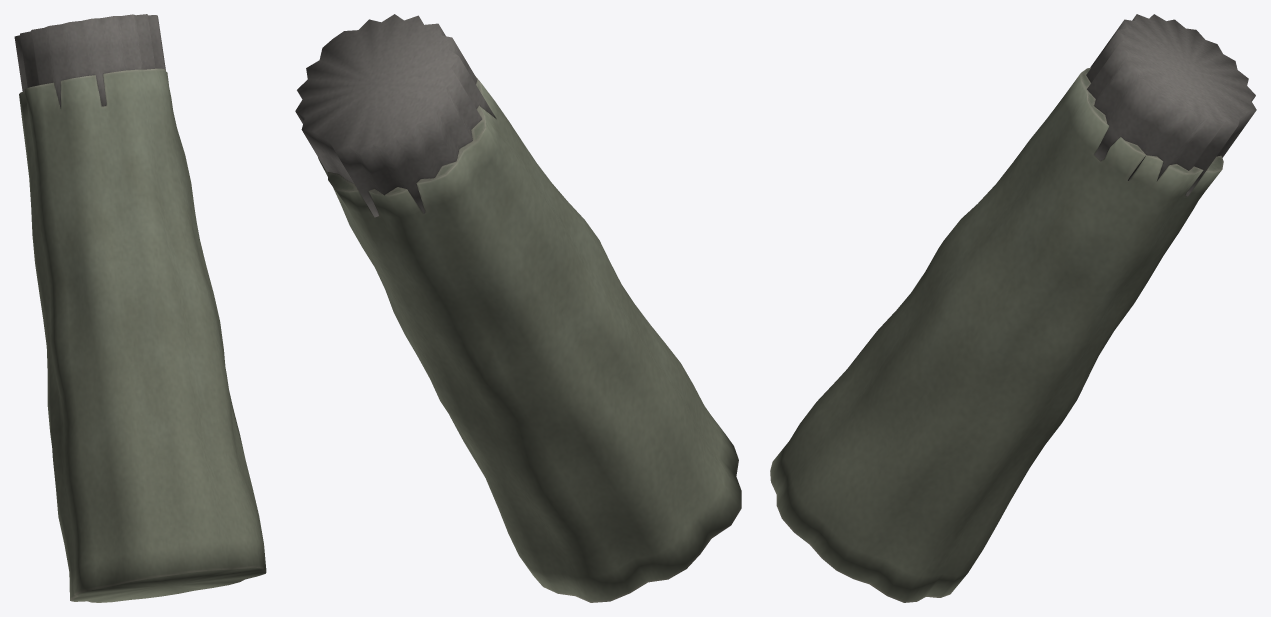
Rendered from fp_sleeve_l.glb.
3 views of the same model, side by side, from view 1: azimuth 30°, elevation 25°; view 2: azimuth 150°, elevation 25°; view 3: azimuth 270°, elevation 25° (orthographic). The views are drawn at different scales.
Parts seen in each view (by area): view 1: fp_sleeve_l; view 2: fp_sleeve_l; view 3: fp_sleeve_l.
Part boxes in pixels (x1,y1,x2,y2): fp_sleeve_l: (14, 14, 266, 602); fp_sleeve_l: (295, 14, 741, 602); fp_sleeve_l: (770, 14, 1256, 602).
Bounding box in the file's own units: 0.1541 × 0.3557 × 0.2706.
1 material, 1 textured.
